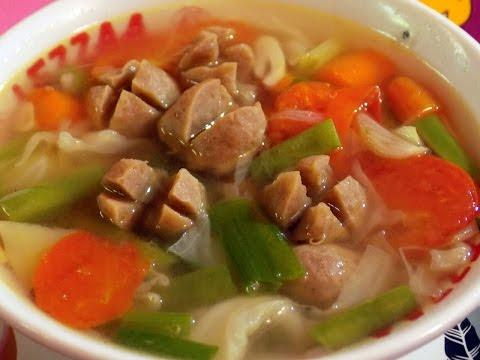buah_sayur_vitA: (375, 161, 468, 242), (61, 236, 128, 316), (340, 50, 392, 98), (278, 85, 324, 133)
daging: (175, 92, 254, 157), (109, 168, 190, 229), (285, 165, 349, 233), (98, 66, 155, 120)
